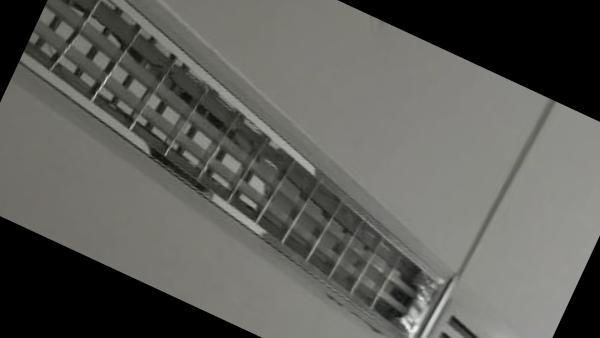light_off: (0, 0, 539, 338)
